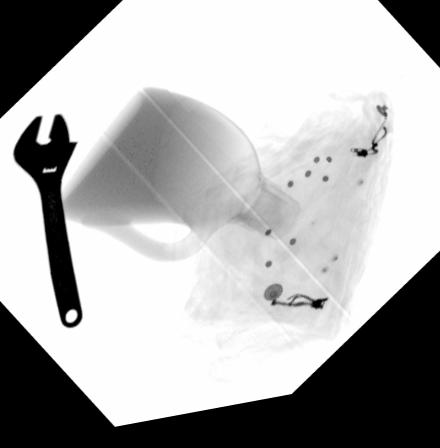Wrench: (11, 113, 83, 331)
